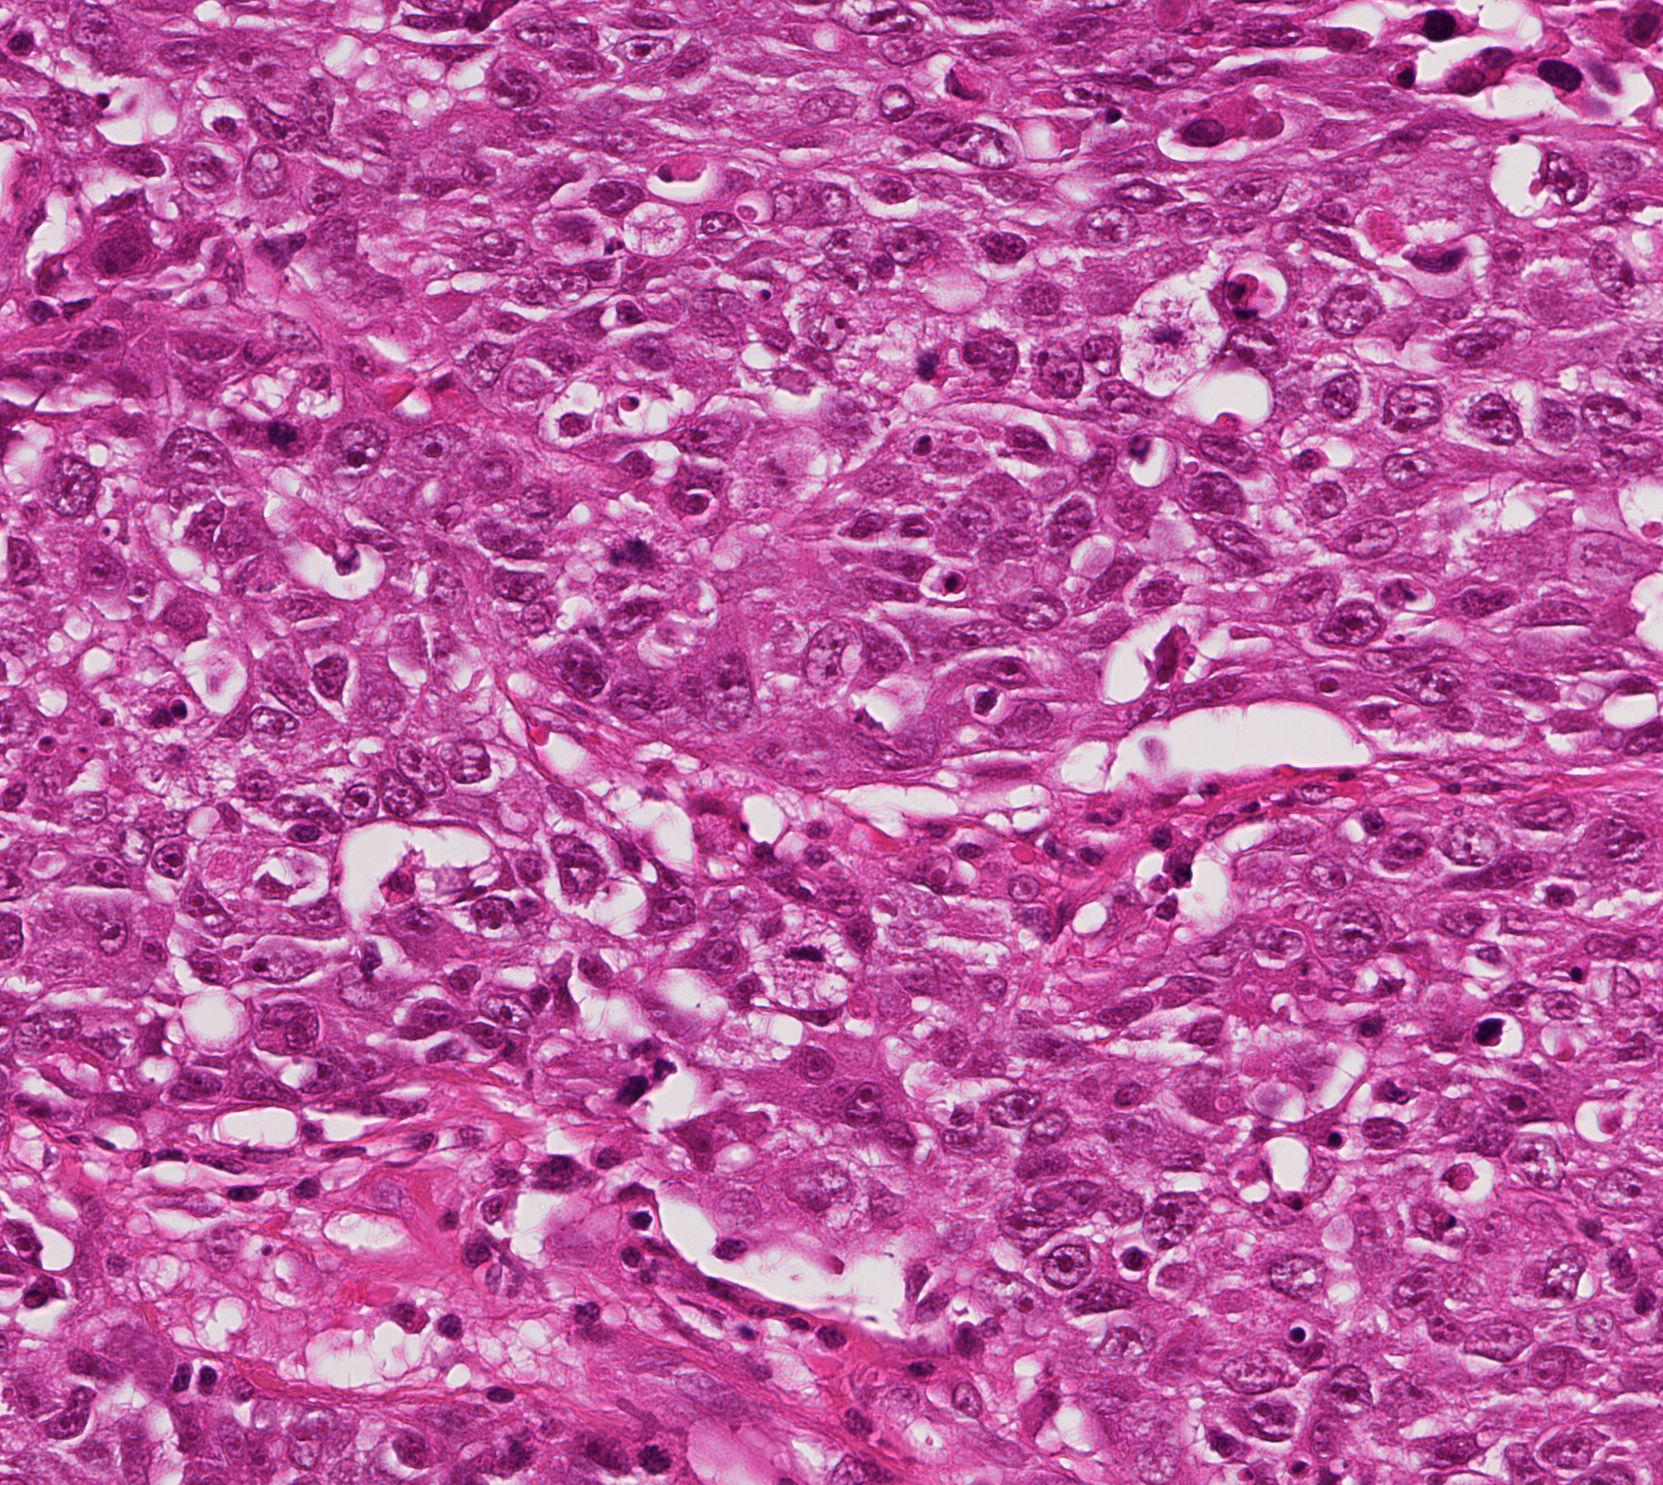mitosis: (773, 922, 833, 980)
